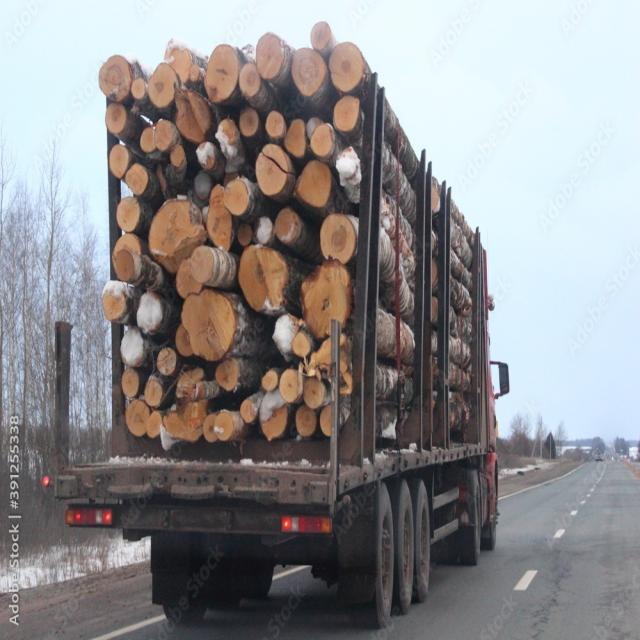Truck: (100, 36, 504, 624)
